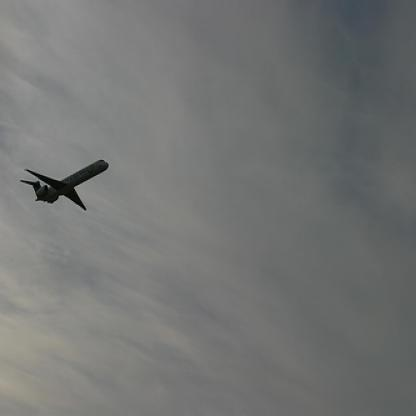aeroplane: (20, 159, 109, 211)
